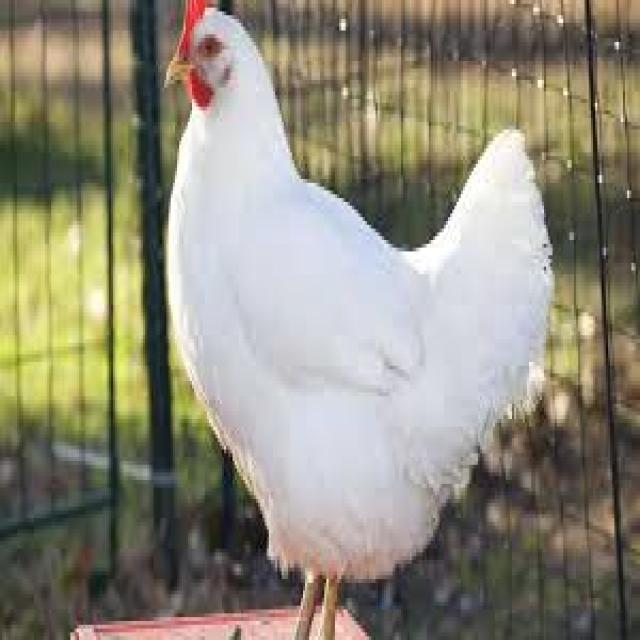Healthy: (132, 9, 567, 602)
